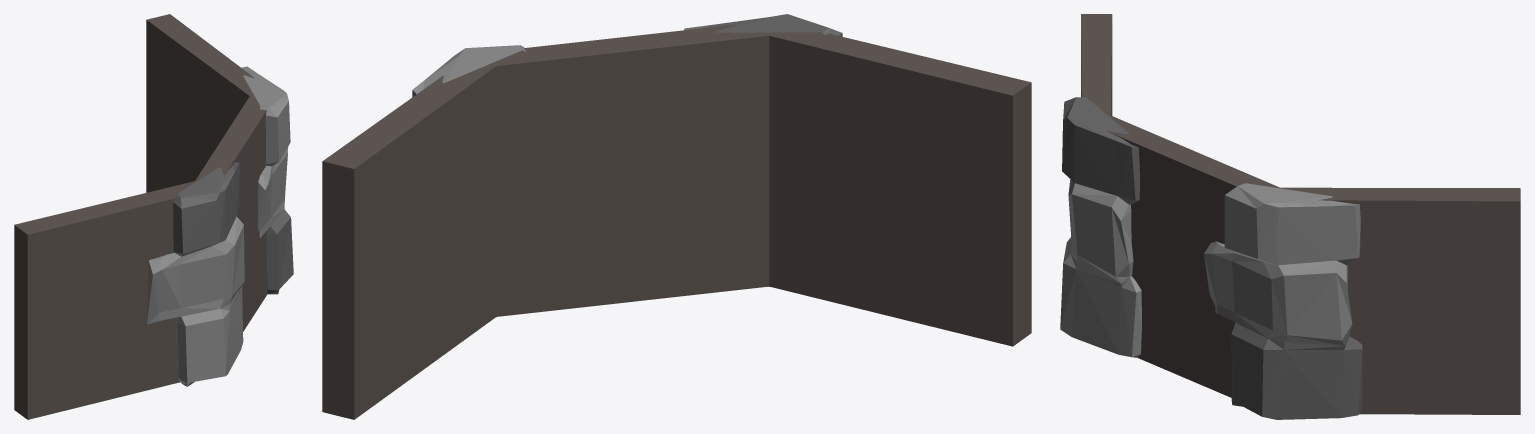
Rendered from MCastle_OctWalls_Base_Half.FBX.
3 renders of one model, left to right at view 1: azimuth 30°, elevation 25°; view 2: azimuth 150°, elevation 25°; view 3: azimuth 270°, elevation 25°, orthographic. The views are drawn at different scales.
Visible parts, largest first — view 1: MCastle_OctWalls_Base_Half_LOD0; view 2: MCastle_OctWalls_Base_Half_LOD0; view 3: MCastle_OctWalls_Base_Half_LOD0.
Boxes of the visible parts, x1=… form: MCastle_OctWalls_Base_Half_LOD0: x1=14, y1=14, x2=293, y2=419; MCastle_OctWalls_Base_Half_LOD0: x1=322, y1=14, x2=1031, y2=419; MCastle_OctWalls_Base_Half_LOD0: x1=1060, y1=14, x2=1520, y2=419.
Size of what is drawn, in the model's own units: 4.44 by 2.29 by 4.4.
